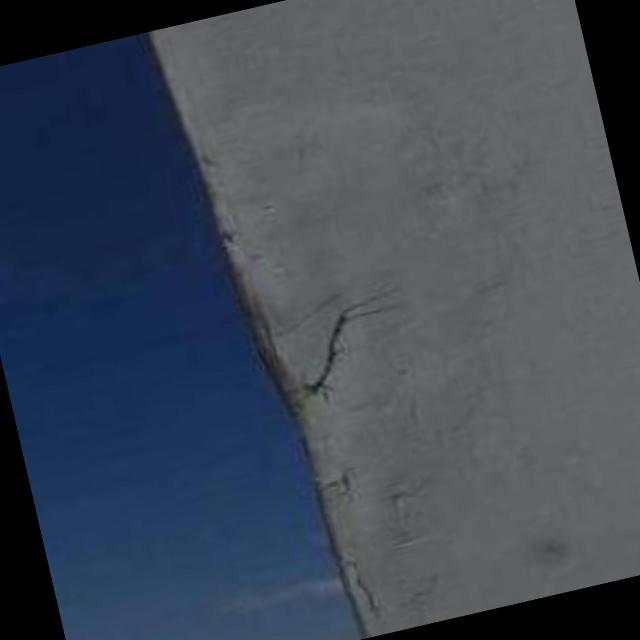crack: (284, 292, 399, 399)
